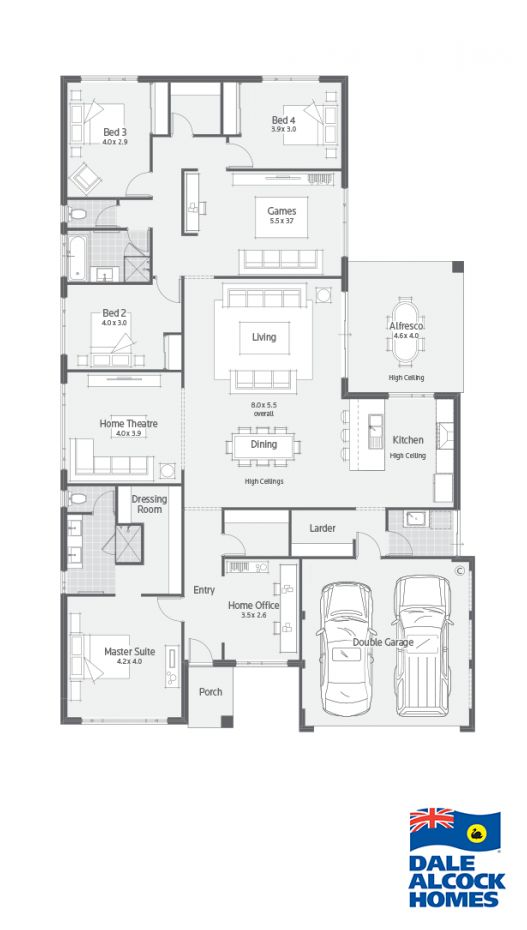room: (181, 168, 348, 278), (60, 594, 184, 724), (59, 369, 184, 486), (338, 392, 463, 509), (58, 76, 153, 200), (226, 76, 348, 171), (59, 281, 185, 372), (222, 555, 302, 669)
